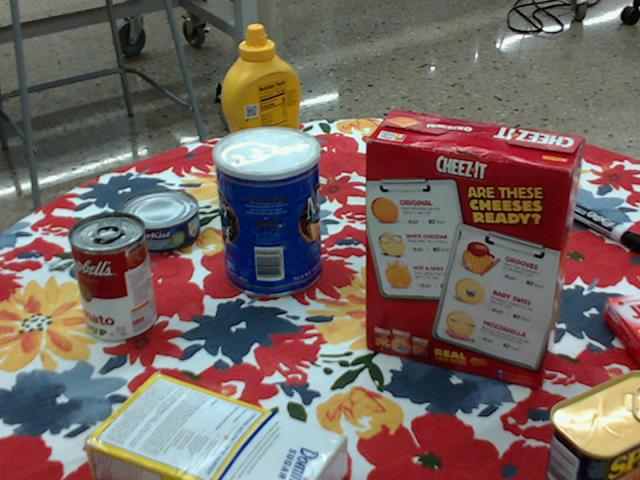cracker_box: (363, 111, 585, 392)
gelatin_box: (602, 294, 639, 366)
large_marker: (553, 195, 639, 251)
master_chef_can: (213, 125, 321, 298)
mug: (388, 135, 469, 217)
mustard_bottle: (222, 26, 306, 195)
potted_meat_can: (546, 369, 639, 479)
sugar_box: (83, 374, 347, 479)
tomato_soup_can: (69, 211, 156, 341)
tuna_fish_can: (120, 188, 201, 252)
